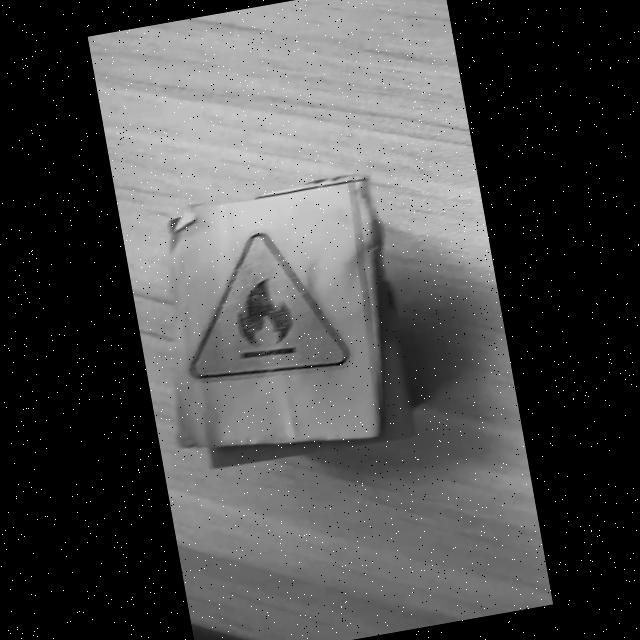Fire: (189, 232, 349, 381)
